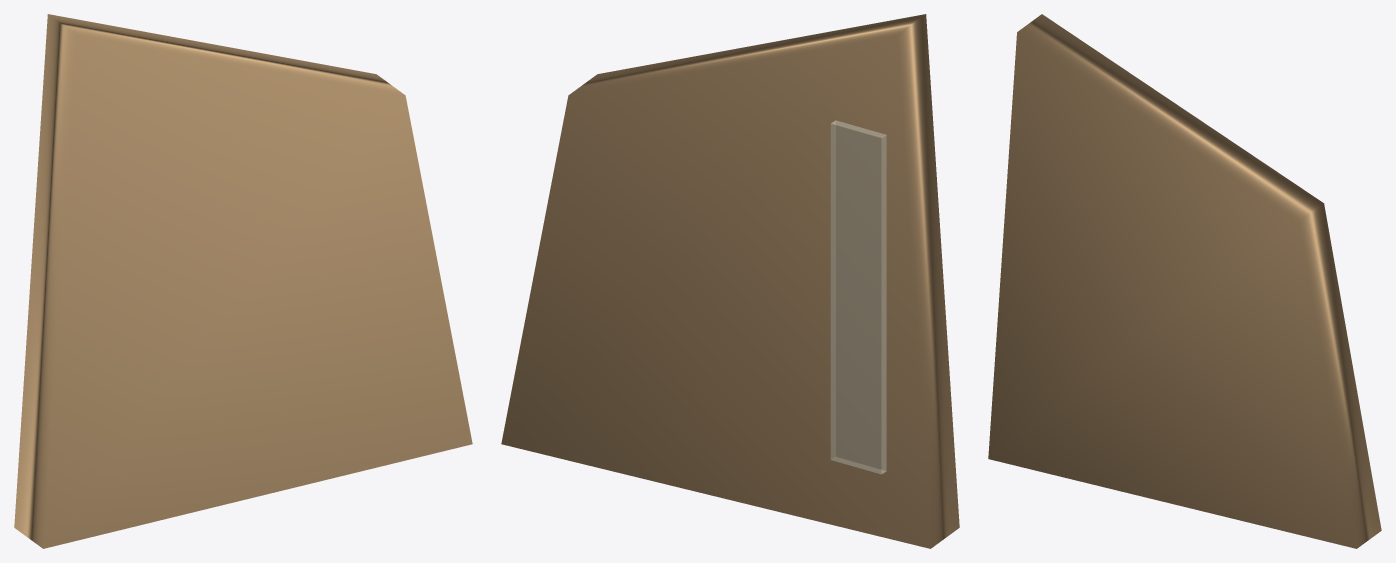
File: cardboard_fin_straight.glb
The picture shows the model from 3 angles, left to right: view 1: azimuth 30°, elevation 25°; view 2: azimuth 150°, elevation 25°; view 3: azimuth 330°, elevation 25°; orthographic projection. The views are drawn at different scales.
Visible parts, largest first — view 1: RW3_Cardboard_Fin_Straight; view 2: RW3_Cardboard_Fin_Straight, RW3_Fin_Tape_Straight; view 3: RW3_Cardboard_Fin_Straight.
Part boxes in pixels (box(x1,y1,x2,y2)): RW3_Cardboard_Fin_Straight: box(14, 14, 472, 548); RW3_Cardboard_Fin_Straight: box(501, 14, 959, 548); RW3_Fin_Tape_Straight: box(830, 120, 886, 474); RW3_Cardboard_Fin_Straight: box(988, 14, 1381, 548).
Size of the model in its own units: 0.64 by 0.72 by 0.0962.
